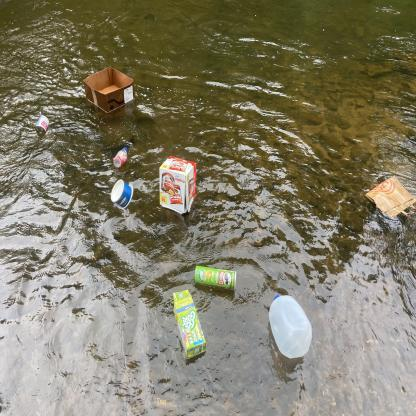trash: (266, 292, 314, 360), (82, 62, 138, 114), (363, 172, 416, 226), (170, 287, 208, 360), (158, 154, 198, 216), (191, 262, 238, 294), (108, 177, 136, 212), (109, 145, 130, 168), (33, 113, 50, 134)
